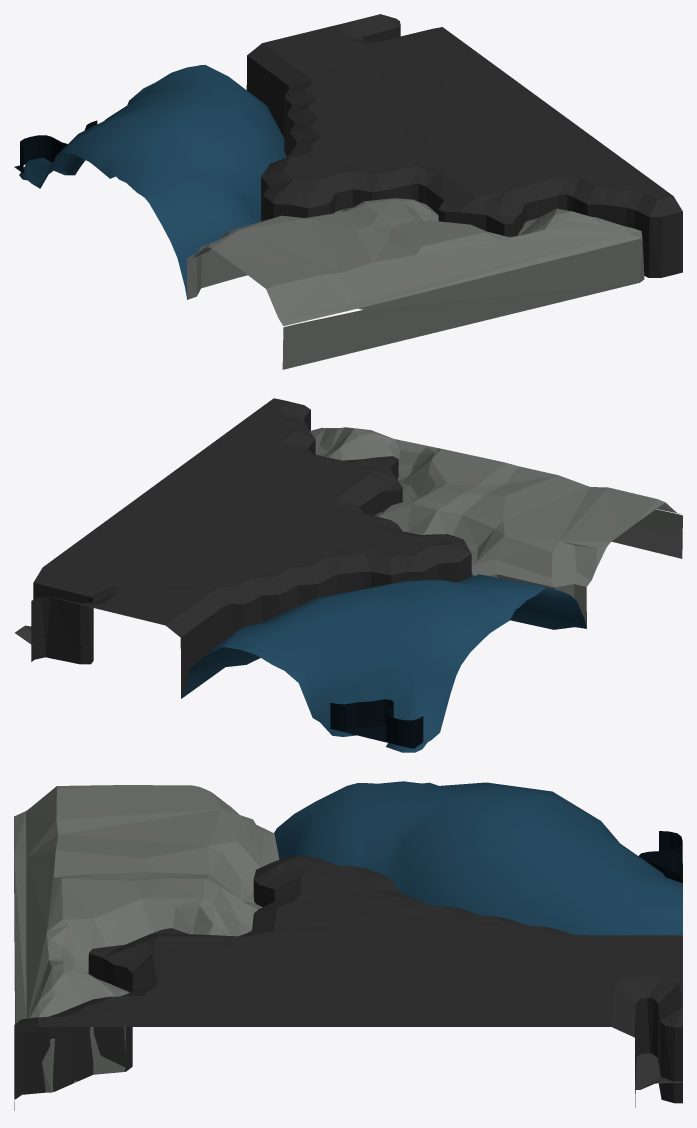
File: newshb-121.glb
The picture shows the model from 3 angles, top to bottom: view 1: azimuth 30°, elevation 25°; view 2: azimuth 150°, elevation 25°; view 3: azimuth 270°, elevation 25°; orthographic projection. The views are drawn at different scales.
Visible parts, largest first — view 1: newshb-121; view 2: newshb-121; view 3: newshb-121.
Part boxes in pixels (box(x1,y1,x2,y2)): newshb-121: box(14, 14, 682, 369); newshb-121: box(15, 398, 682, 752); newshb-121: box(14, 781, 682, 1110).
Size of the model in its own units: 2 by 0.4414 by 2.33.
